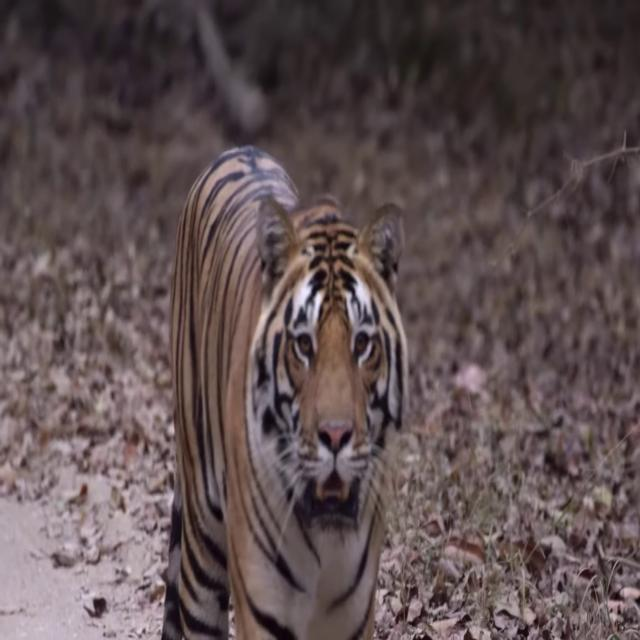tiger: (162, 142, 408, 640)
